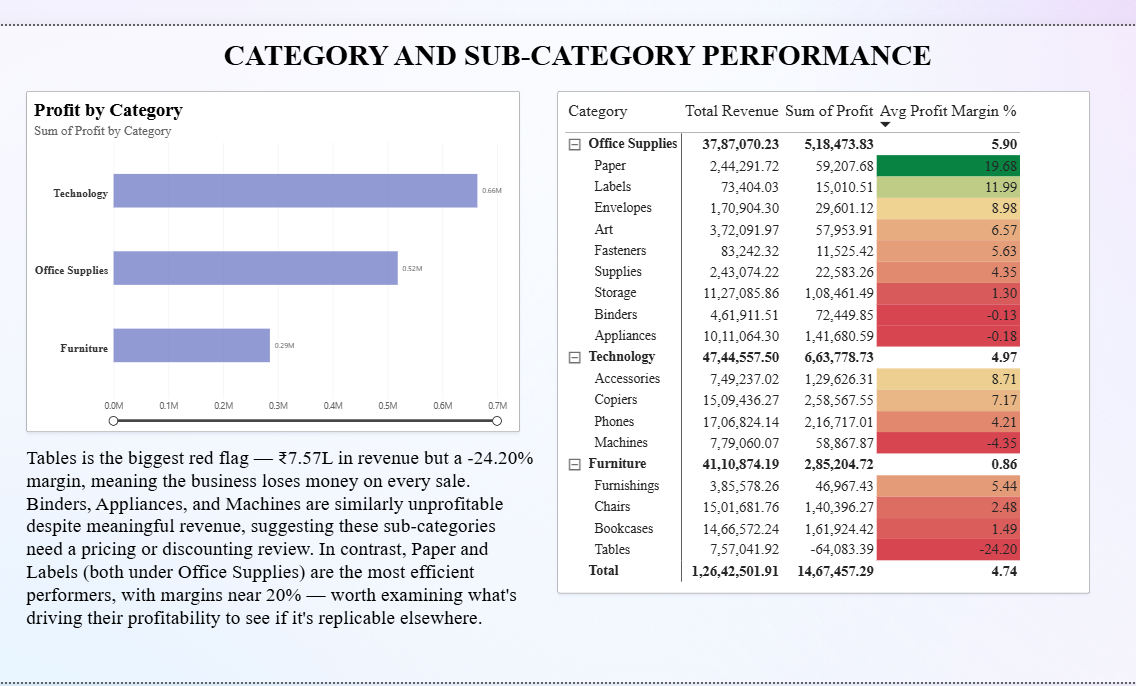

The page's visual inventory and layout, read from the dashboard file:
{"tool":"powerbi","page":{"name":"Performance","canvas":[1920,1080],"ordinal":1},"visuals":[{"type":"clusteredBarChart","title":"Profit by Category","fields":{"Category":["cleaned_global_superstore.Category"],"Y":["Sum(cleaned_global_superstore.Profit)"]},"box":[84.4,107,813,561.9],"z":0},{"type":"pivotTable","fields":{"Rows":["cleaned_global_superstore.Category","cleaned_global_superstore.Sub-Category"],"Values":["rfm_output.Total Revenue","Sum(cleaned_global_superstore.Profit)","cleaned_global_superstore.Avg Profit Margin %"]},"box":[959.2,107,876.8,827.4],"z":1},{"type":"textbox","box":[84.4,691.6,839.8,389],"z":2},{"type":"textbox","box":[409.6,20.6,1356.4,86.4],"z":3}]}

Visuals, with their boxes on the page's 1920x1080 design canvas (x1, y1, x2, y2). These are canvas units, not pixel positions in the 1136x686 screenshot, which may show the page scaled, cropped or inside an application window:
"Profit by Category" clusteredBarChart: x1=84, y1=107, x2=897, y2=669
pivotTable - cleaned_global_superstore.Category x cleaned_global_superstore.Sub-Category: x1=959, y1=107, x2=1836, y2=934
textbox: x1=84, y1=692, x2=924, y2=1081
textbox: x1=410, y1=21, x2=1766, y2=107
